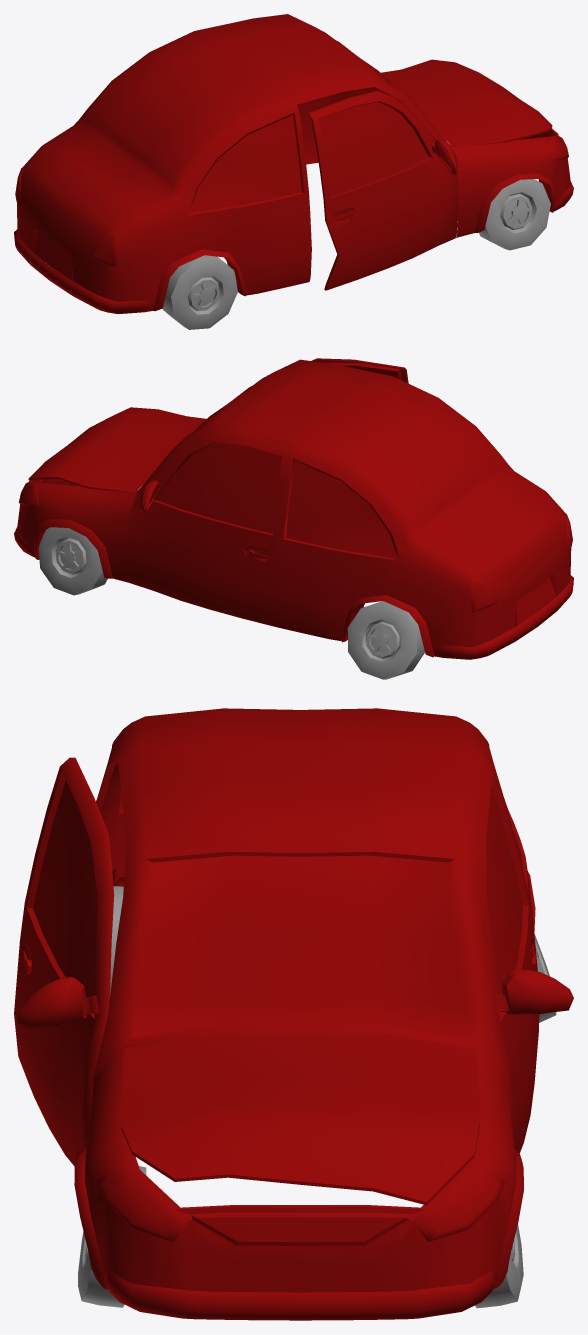
Rendered from SM_Map001_Car.fbx.
The picture shows the model from 3 angles, top to bottom: view 1: azimuth 30°, elevation 25°; view 2: azimuth 150°, elevation 25°; view 3: azimuth 270°, elevation 25°; orthographic projection. The views are drawn at different scales.
Visible parts, largest first — view 1: Box031, SM_Map001_CarTire; view 2: Box031, SM_Map001_CarTire; view 3: Box031, SM_Map001_CarTire.
Part boxes in pixels (x1,y1,x2,y2): Box031: [14, 14, 573, 313]; SM_Map001_CarTire: [162, 137, 550, 329]; Box031: [14, 358, 573, 659]; SM_Map001_CarTire: [38, 483, 424, 679]; Box031: [14, 708, 573, 1320]; SM_Map001_CarTire: [78, 886, 556, 1308].
Size of the model in its own units: 9.05 by 3.64 by 4.9.
